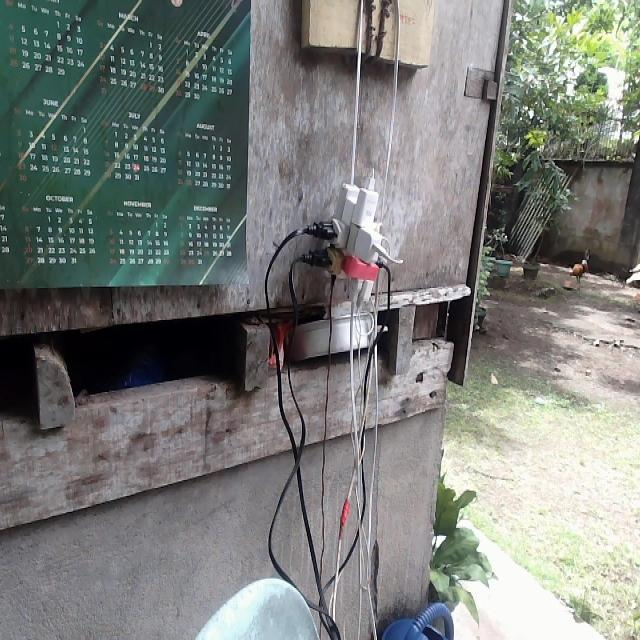-: (292, 157, 407, 319)
